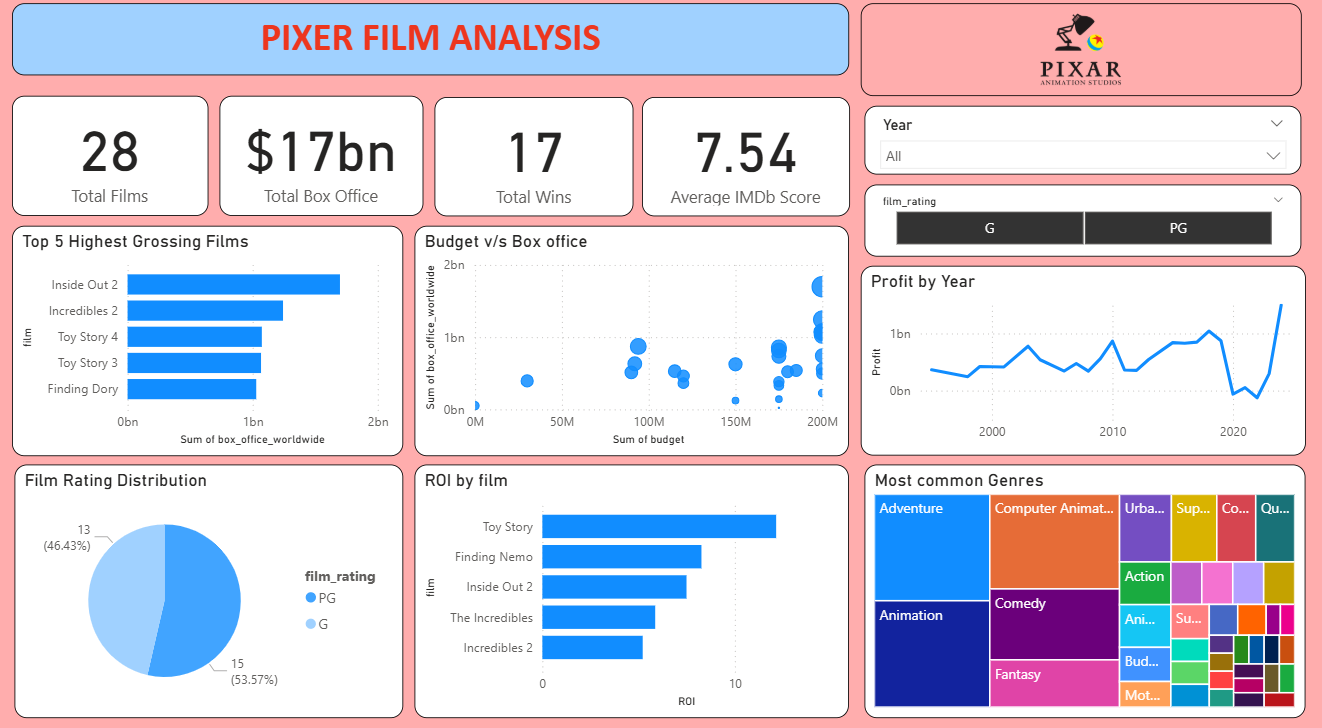

The page's visual inventory and layout, read from the dashboard file:
{"tool":"powerbi","page":{"name":"Page 1","canvas":[1280,720],"ordinal":0},"visuals":[{"type":"card","fields":{"Values":["Measure Table.Total Films"]},"box":[14.7,100.3,189.5,116.2],"z":0},{"type":"card","fields":{"Values":["Measure Table.Total Box Office"]},"box":[215.2,100.3,196.9,116.2],"z":1000},{"type":"card","fields":{"Values":["Measure Table.Total Wins"]},"box":[421.9,101.5,192,114.9],"z":2000},{"type":"card","fields":{"Values":["Measure Table.Average IMDb Score"]},"box":[622.4,101.5,200.5,114.9],"z":3000},{"type":"clusteredBarChart","title":"Top 5 Highest Grossing Films","fields":{"Category":["box_office.film"],"Y":["Sum(box_office.box_office_worldwide)"]},"box":[14.7,225,377.9,222.6],"z":4000},{"type":"pieChart","title":"Film Rating Distribution","fields":{"Category":["pixar_films.film_rating"],"Y":["CountNonNull(box_office.film)"]},"box":[17.1,456.1,375.4,244.6],"z":5000},{"type":"scatterChart","title":"Budget v/s Box office","fields":{"X":["Sum(box_office.budget)"],"Y":["Sum(box_office.box_office_worldwide)"],"Size":["Sum(box_office.Profit)"],"Category":["box_office.film"]},"box":[403.5,225,419.4,222.6],"z":6000},{"type":"clusteredBarChart","fields":{"Category":["box_office.film"],"Y":["Measure Table.ROI"]},"box":[403.5,456.1,419.4,244.6],"z":7000},{"type":"lineChart","fields":{"Category":["pixar_films.release_date.Variation.Date Hierarchy.Year","pixar_films.release_date.Variation.Date Hierarchy.Month","pixar_films.release_date.Variation.Date Hierarchy.Day"],"Y":["Measure Table.Profit"]},"box":[834,264.1,429.2,183.4],"z":8000},{"type":"treemap","title":"Most common Genres","fields":{"Group":["genres.value"],"Values":["CountNonNull(genres.film)"]},"box":[837.6,456.1,425.5,244.6],"z":9000},{"type":"slicer","fields":{"Values":["pixar_films.release_date.Variation.Date Hierarchy.Year"]},"box":[837.6,110.1,421.9,66],"z":10000},{"type":"slicer","fields":{"Values":["pixar_films.film_rating"]},"box":[837.6,185.9,421.9,69.7],"z":11000},{"type":"textbox","box":[14.7,11,808.3,69.7],"z":12000},{"type":"image","box":[834,11,425.5,89.3],"z":12001}]}

Visuals, with their boxes in screenshot pixels (x1, y1, x2, y2), scaled from the page's 1280x720 canvas onto the 1322x728 screenshot:
card - Measure Table.Total Films: (15,101,211,219)
card - Measure Table.Total Box Office: (222,101,426,219)
card - Measure Table.Total Wins: (436,103,634,219)
card - Measure Table.Average IMDb Score: (643,103,850,219)
"Top 5 Highest Grossing Films" clusteredBarChart: (15,228,405,453)
"Film Rating Distribution" pieChart: (18,461,405,708)
"Budget v/s Box office" scatterChart: (417,228,850,453)
clusteredBarChart - box_office.film x Measure Table.ROI: (417,461,850,708)
lineChart - pixar_films.release_date.Variation.Date Hierarchy.Year x pixar_films.release_date.Variation.Date Hierarchy.Month: (861,267,1305,452)
"Most common Genres" treemap: (865,461,1305,708)
slicer - pixar_films.release_date.Variation.Date Hierarchy.Year: (865,111,1301,178)
slicer - pixar_films.film_rating: (865,188,1301,258)
textbox: (15,11,850,82)
image: (861,11,1301,101)
